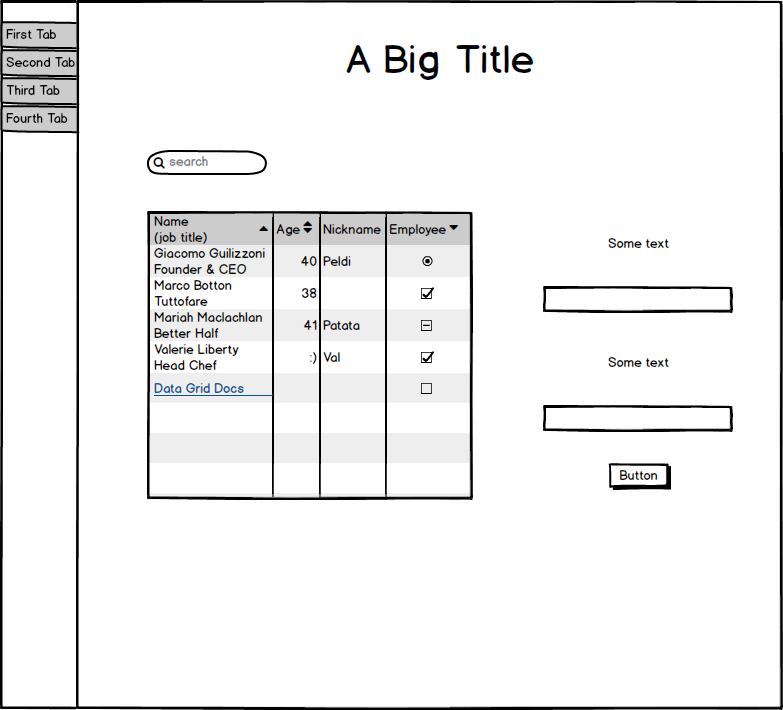button: (604, 458, 678, 495)
h1: (337, 38, 545, 83)
input: (538, 399, 739, 438), (537, 281, 736, 318)
label: (599, 227, 675, 260), (602, 346, 679, 377)
search: (138, 143, 276, 182)
sidebar: (2, 11, 85, 142)
table: (140, 203, 480, 507)
